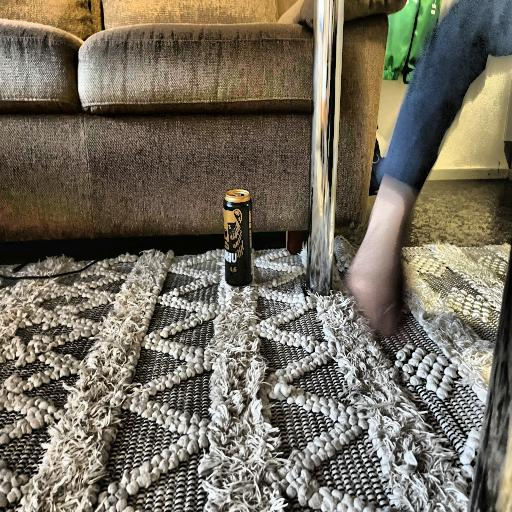karhu: (220, 188, 258, 286)
